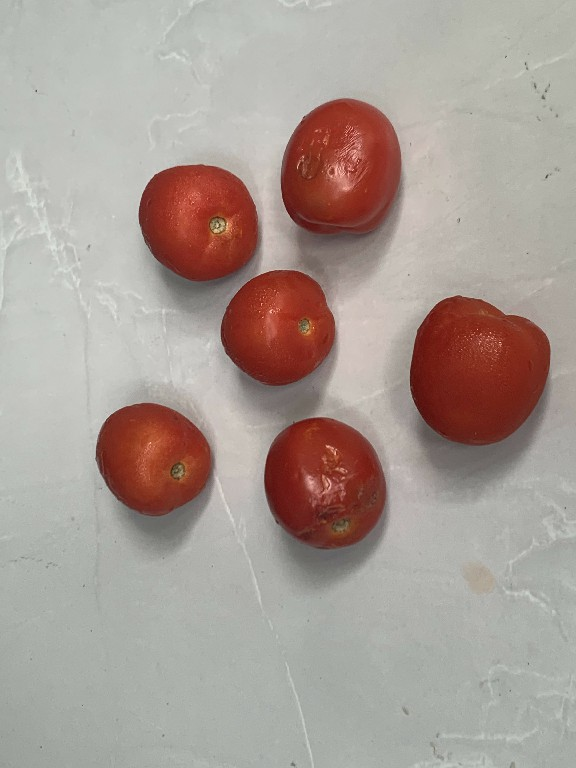NG: (279, 88, 398, 243), (262, 415, 388, 558)
OK: (408, 289, 545, 456), (137, 161, 260, 277), (91, 399, 211, 517), (221, 269, 340, 387)
